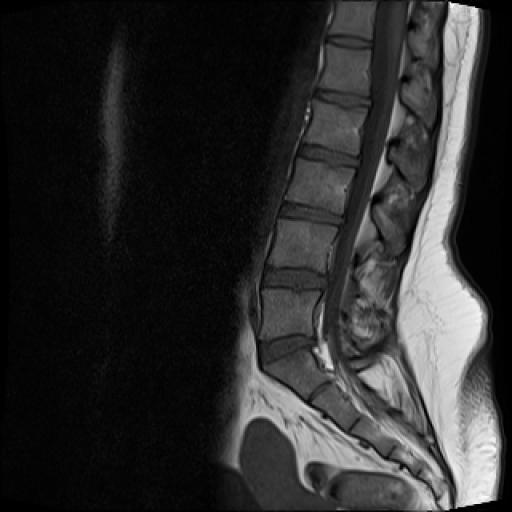L1: (319, 44, 371, 94)
L2: (304, 98, 368, 156)
L3: (286, 157, 355, 214)
L4: (268, 218, 337, 272)
L5: (261, 289, 321, 338)
S1: (263, 349, 328, 400)
